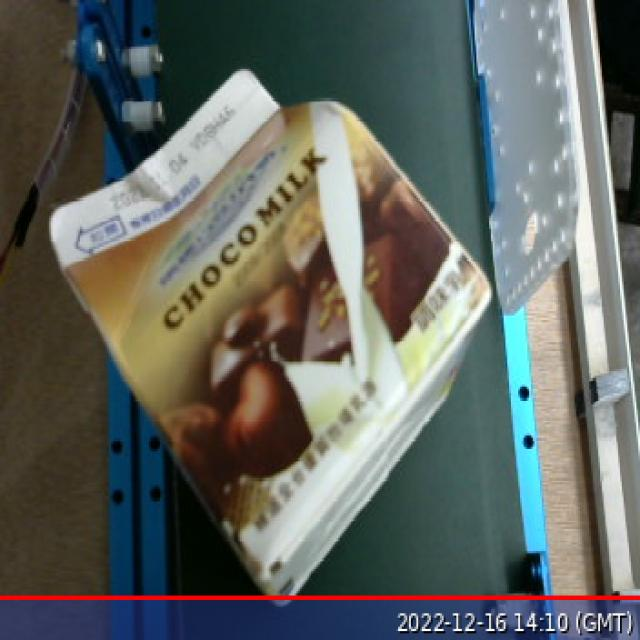non_white_jug: (31, 51, 507, 623)
